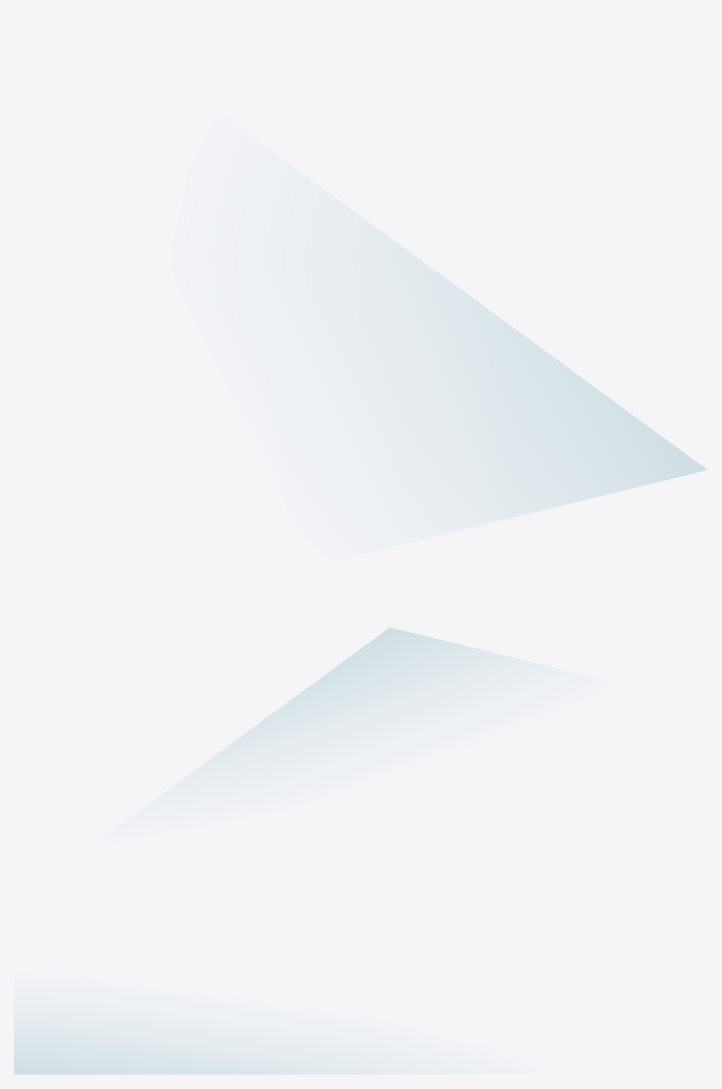
The picture shows the model from 3 angles, top to bottom: view 1: azimuth 30°, elevation 25°; view 2: azimuth 150°, elevation 25°; view 3: azimuth 270°, elevation 25°; orthographic projection. The views are drawn at different scales.
Visible parts, largest first — view 1: city; view 2: city; view 3: city.
Part boxes in pixels (x1=…): city: x1=407, y1=251, x2=706, y2=512; city: x1=210, y1=628, x2=496, y2=759; city: x1=14, y1=1026, x2=342, y2=1074.
Size of the model in its own units: 156 by 0 by 319.
